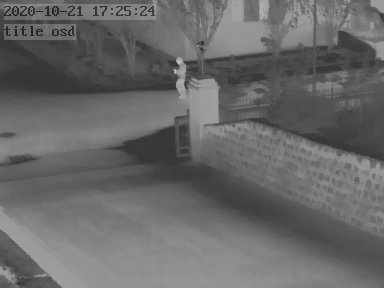person: (173, 56, 188, 98)
